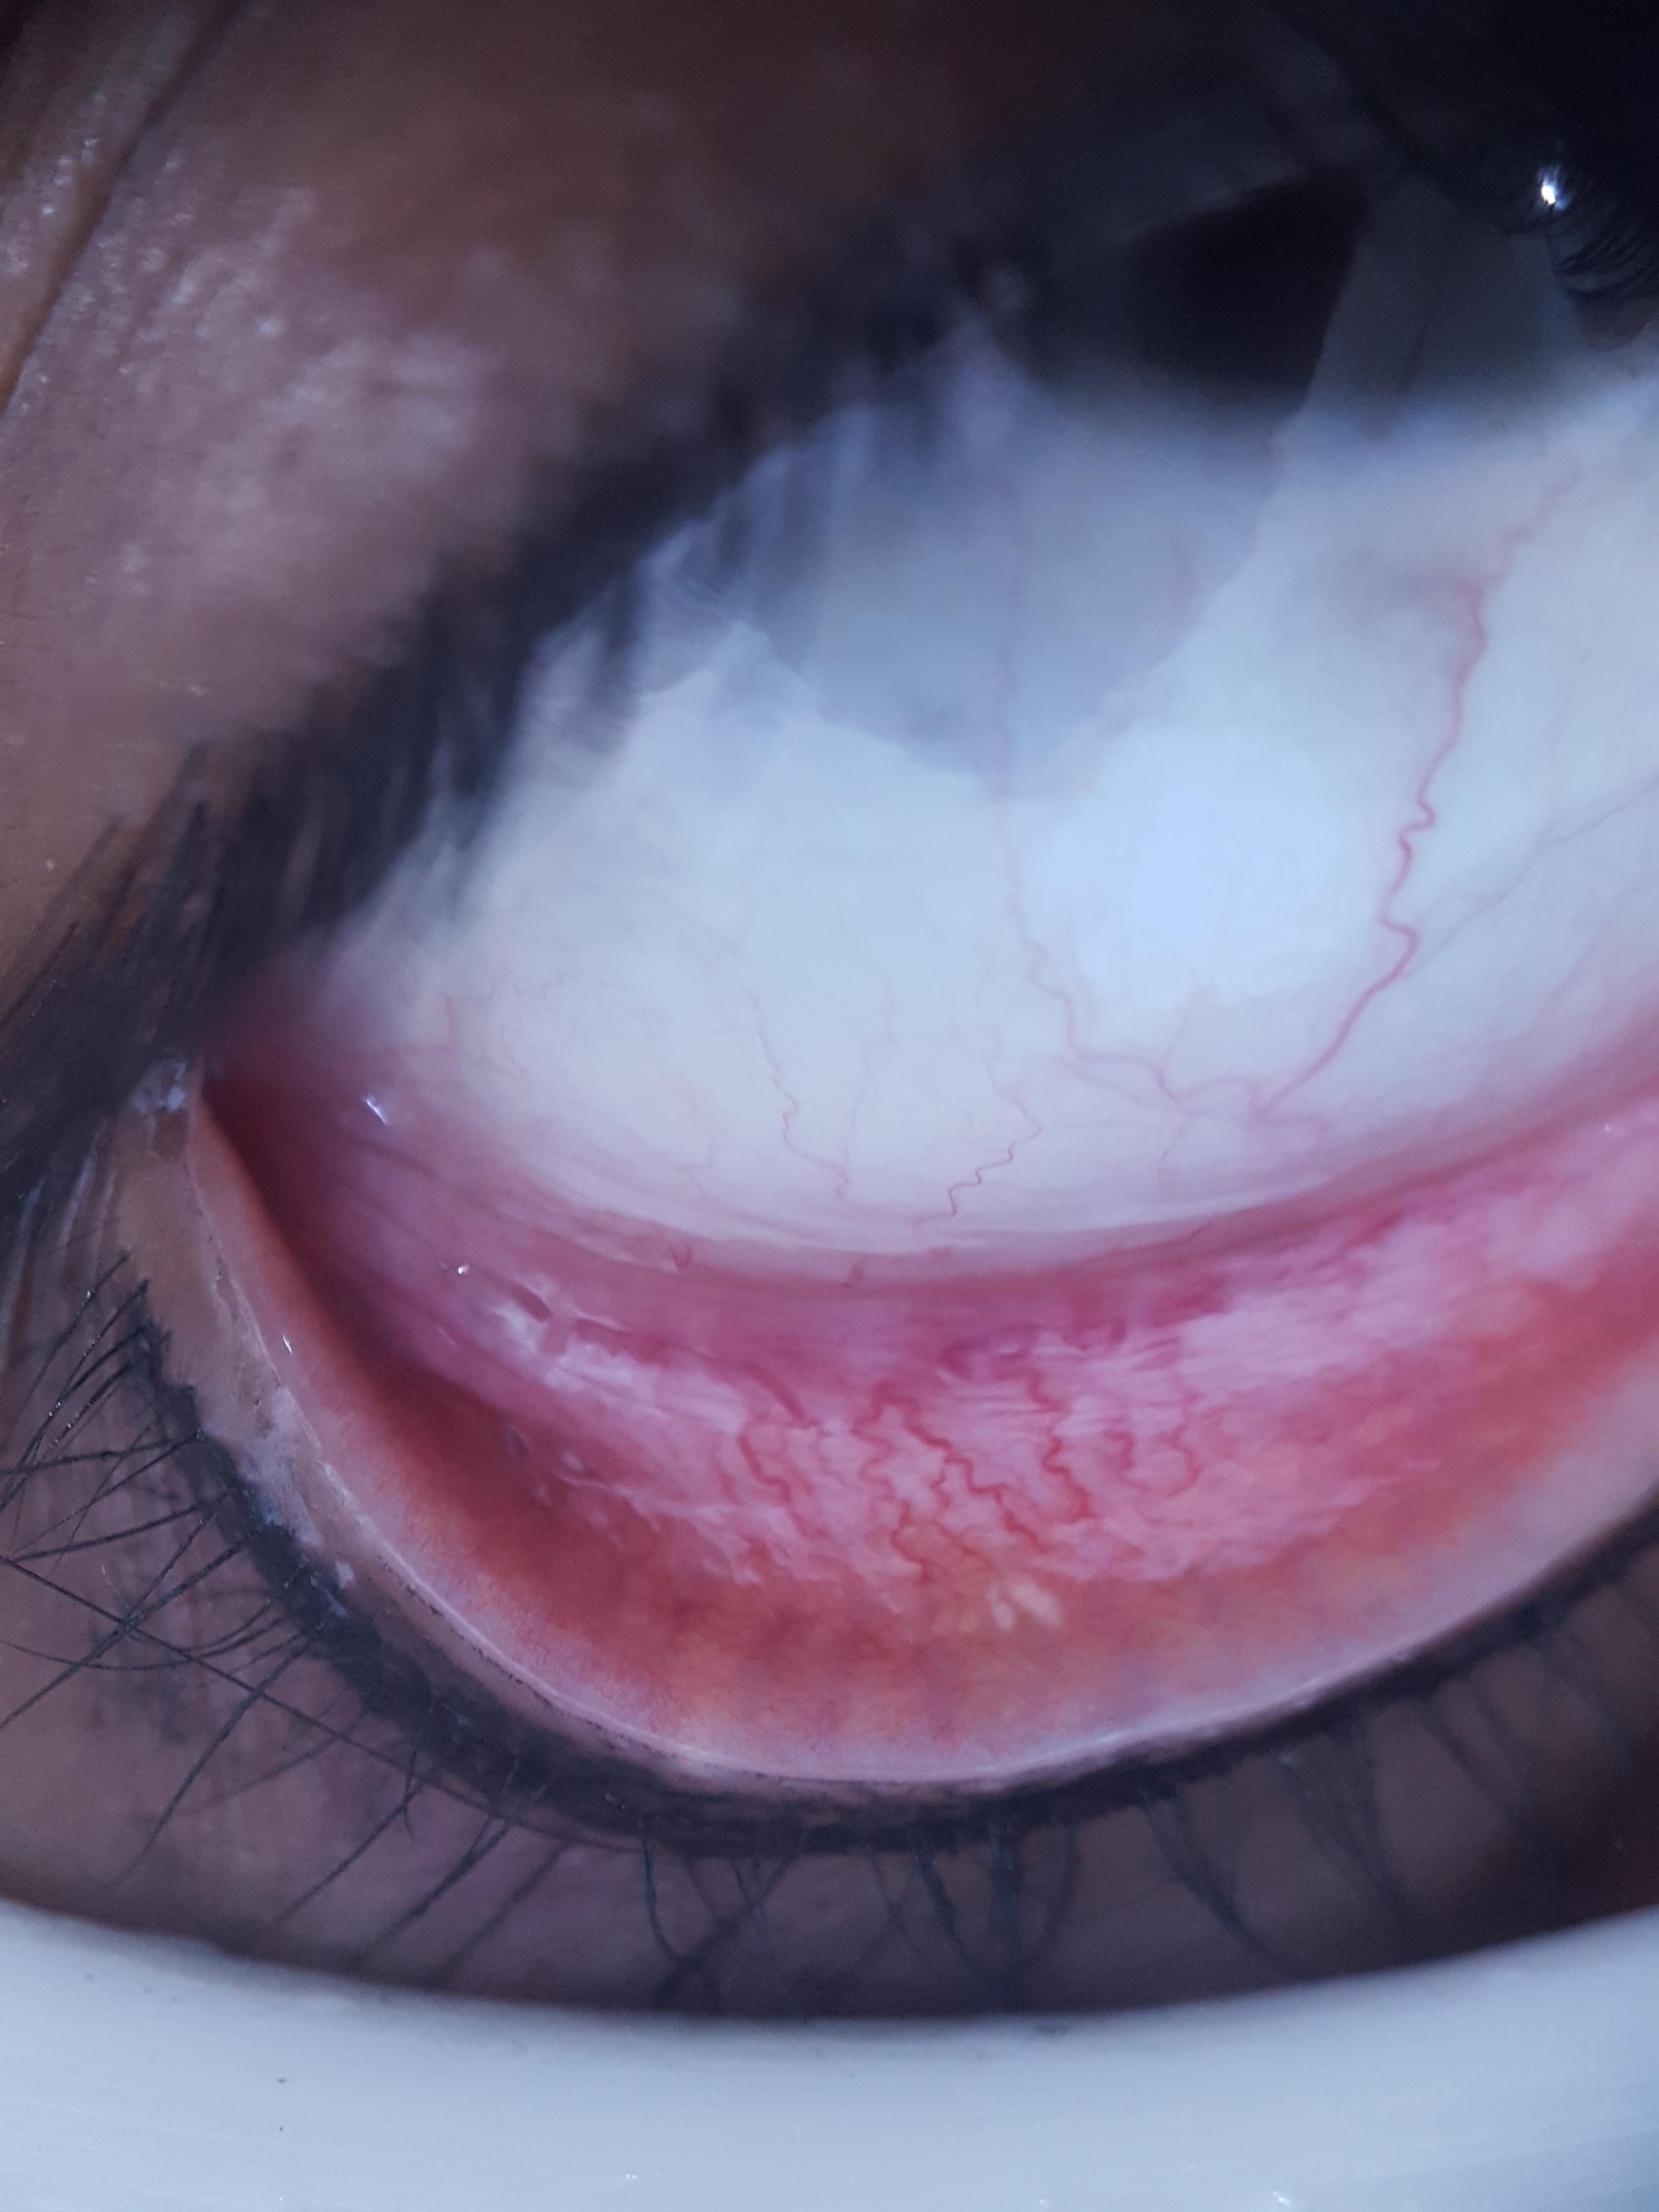forniceal: (244, 1052, 1659, 1601)
forniceal_palpebral: (199, 1043, 1659, 1754)
palpebral: (206, 1087, 1659, 1745)
